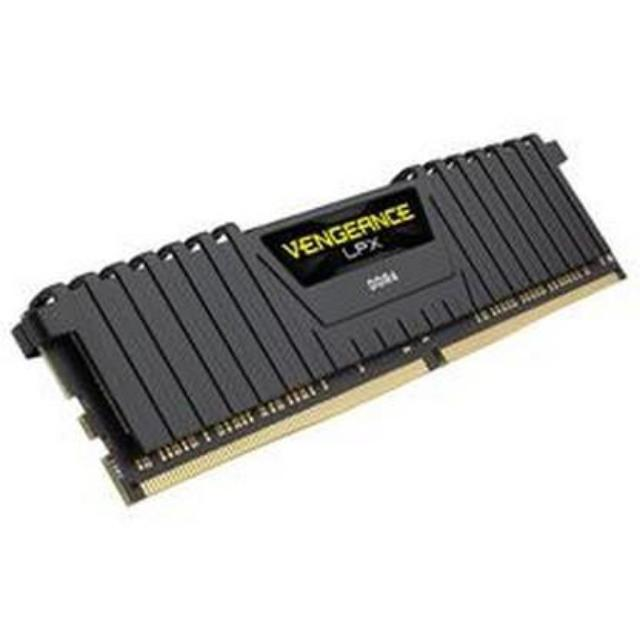RAM: (1, 124, 636, 507)
